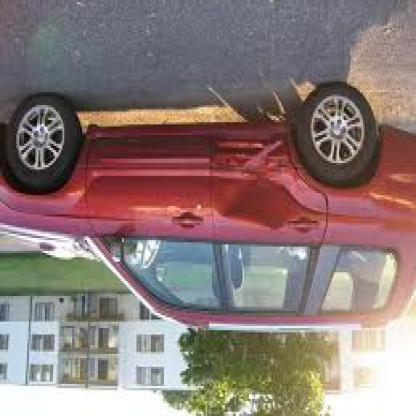dent: (214, 142, 288, 233)
